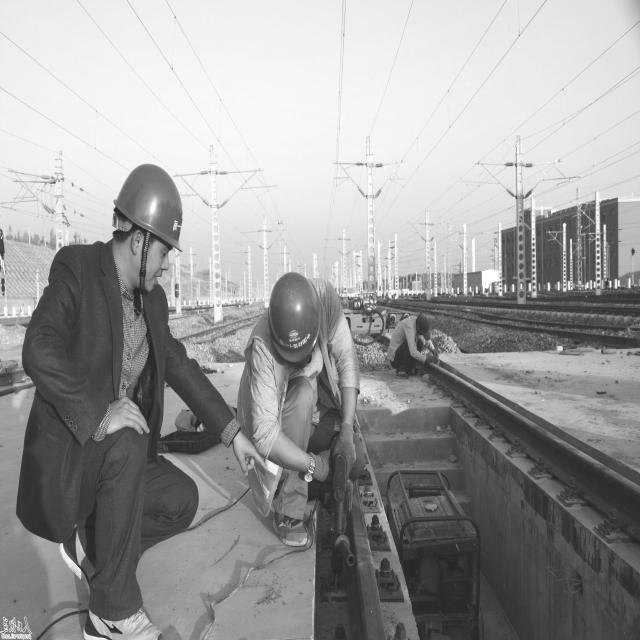face_nomask: (138, 236, 180, 292)
hand_glove: (328, 418, 362, 475), (302, 444, 333, 490)
hand_noglove: (99, 388, 153, 446), (229, 427, 266, 481)
head_helmet: (113, 162, 189, 254), (269, 273, 321, 361)
person: (14, 162, 231, 638), (234, 274, 358, 555), (388, 314, 436, 379)
shoes: (81, 589, 172, 640), (270, 486, 314, 549)
vest: (240, 330, 346, 500)
